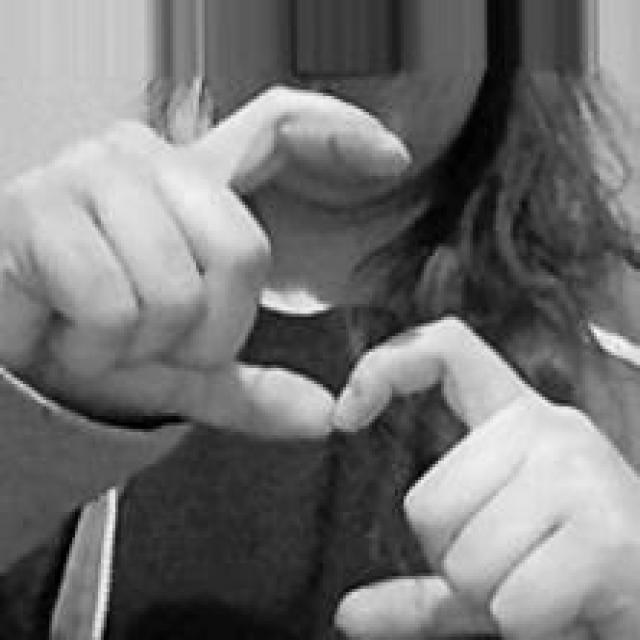S: (3, 77, 640, 637)
